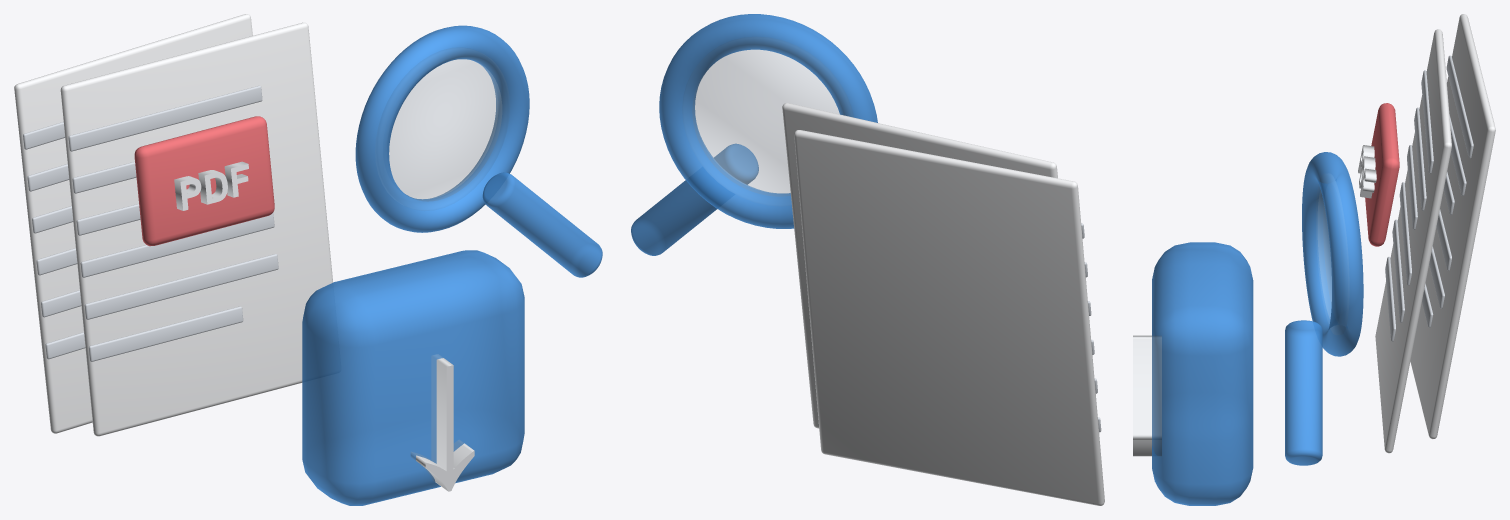
The model's file is module-09.glb.
3 renders of one model, left to right at view 1: azimuth 30°, elevation 25°; view 2: azimuth 150°, elevation 25°; view 3: azimuth 270°, elevation 25°, orthographic. The views are drawn at different scales.
Parts seen in each view (by area): view 1: pdf_sheet1_paper, arrow_tile, lens_ring.002, pdf_sheet0_paper, lens_glass.002, pdf_badge.001, lens_handle.002, arrow_glyph, pdf_sheet1_line0, pdf_sheet1_line4, pdf_sheet1_line3, pdf_sheet1_line5 (+9 smaller); view 2: pdf_sheet0_paper, lens_ring.002, lens_glass.002, pdf_sheet1_paper, lens_handle.002; view 3: arrow_tile, pdf_sheet0_paper, pdf_sheet1_paper, lens_ring.002, lens_handle.002, arrow_glyph, pdf_badge.001, lens_glass.002, pdf_sheet0_line0, pdf_text.001, pdf_sheet1_line0, pdf_sheet1_line1 (+7 smaller).
Boxes of the visible parts, bbox=[...] form: pdf_sheet1_paper: bbox=[60, 22, 332, 436]; arrow_tile: bbox=[302, 250, 524, 505]; lens_ring.002: bbox=[355, 25, 529, 232]; pdf_sheet0_paper: bbox=[14, 14, 252, 433]; lens_glass.002: bbox=[389, 59, 502, 201]; pdf_badge.001: bbox=[134, 116, 274, 246]; lens_handle.002: bbox=[482, 172, 602, 277]; arrow_glyph: bbox=[411, 354, 474, 491]; pdf_sheet1_line0: bbox=[68, 85, 262, 151]; pdf_sheet1_line4: bbox=[84, 254, 278, 319]; pdf_sheet1_line3: bbox=[80, 213, 274, 277]; pdf_sheet1_line5: bbox=[89, 306, 243, 361]; pdf_sheet0_paper: bbox=[794, 130, 1104, 505]; lens_ring.002: bbox=[659, 14, 877, 228]; lens_glass.002: bbox=[692, 49, 839, 196]; pdf_sheet1_paper: bbox=[782, 103, 1057, 428]; lens_handle.002: bbox=[631, 143, 758, 255]; arrow_tile: bbox=[1152, 242, 1253, 505]; pdf_sheet0_paper: bbox=[1410, 14, 1495, 439]; pdf_sheet1_paper: bbox=[1375, 29, 1451, 453]; lens_ring.002: bbox=[1302, 152, 1363, 356]; lens_handle.002: bbox=[1285, 320, 1322, 465]; arrow_glyph: bbox=[1133, 335, 1161, 456]; pdf_badge.001: bbox=[1365, 103, 1399, 246]; lens_glass.002: bbox=[1317, 190, 1331, 318]; pdf_sheet0_line0: bbox=[1446, 55, 1473, 158]; pdf_text.001: bbox=[1358, 145, 1376, 198]; pdf_sheet1_line0: bbox=[1421, 70, 1433, 173]; pdf_sheet1_line1: bbox=[1414, 107, 1426, 210].
Bounding box in the file's own units: 1.89 × 1.36 × 1.25.
